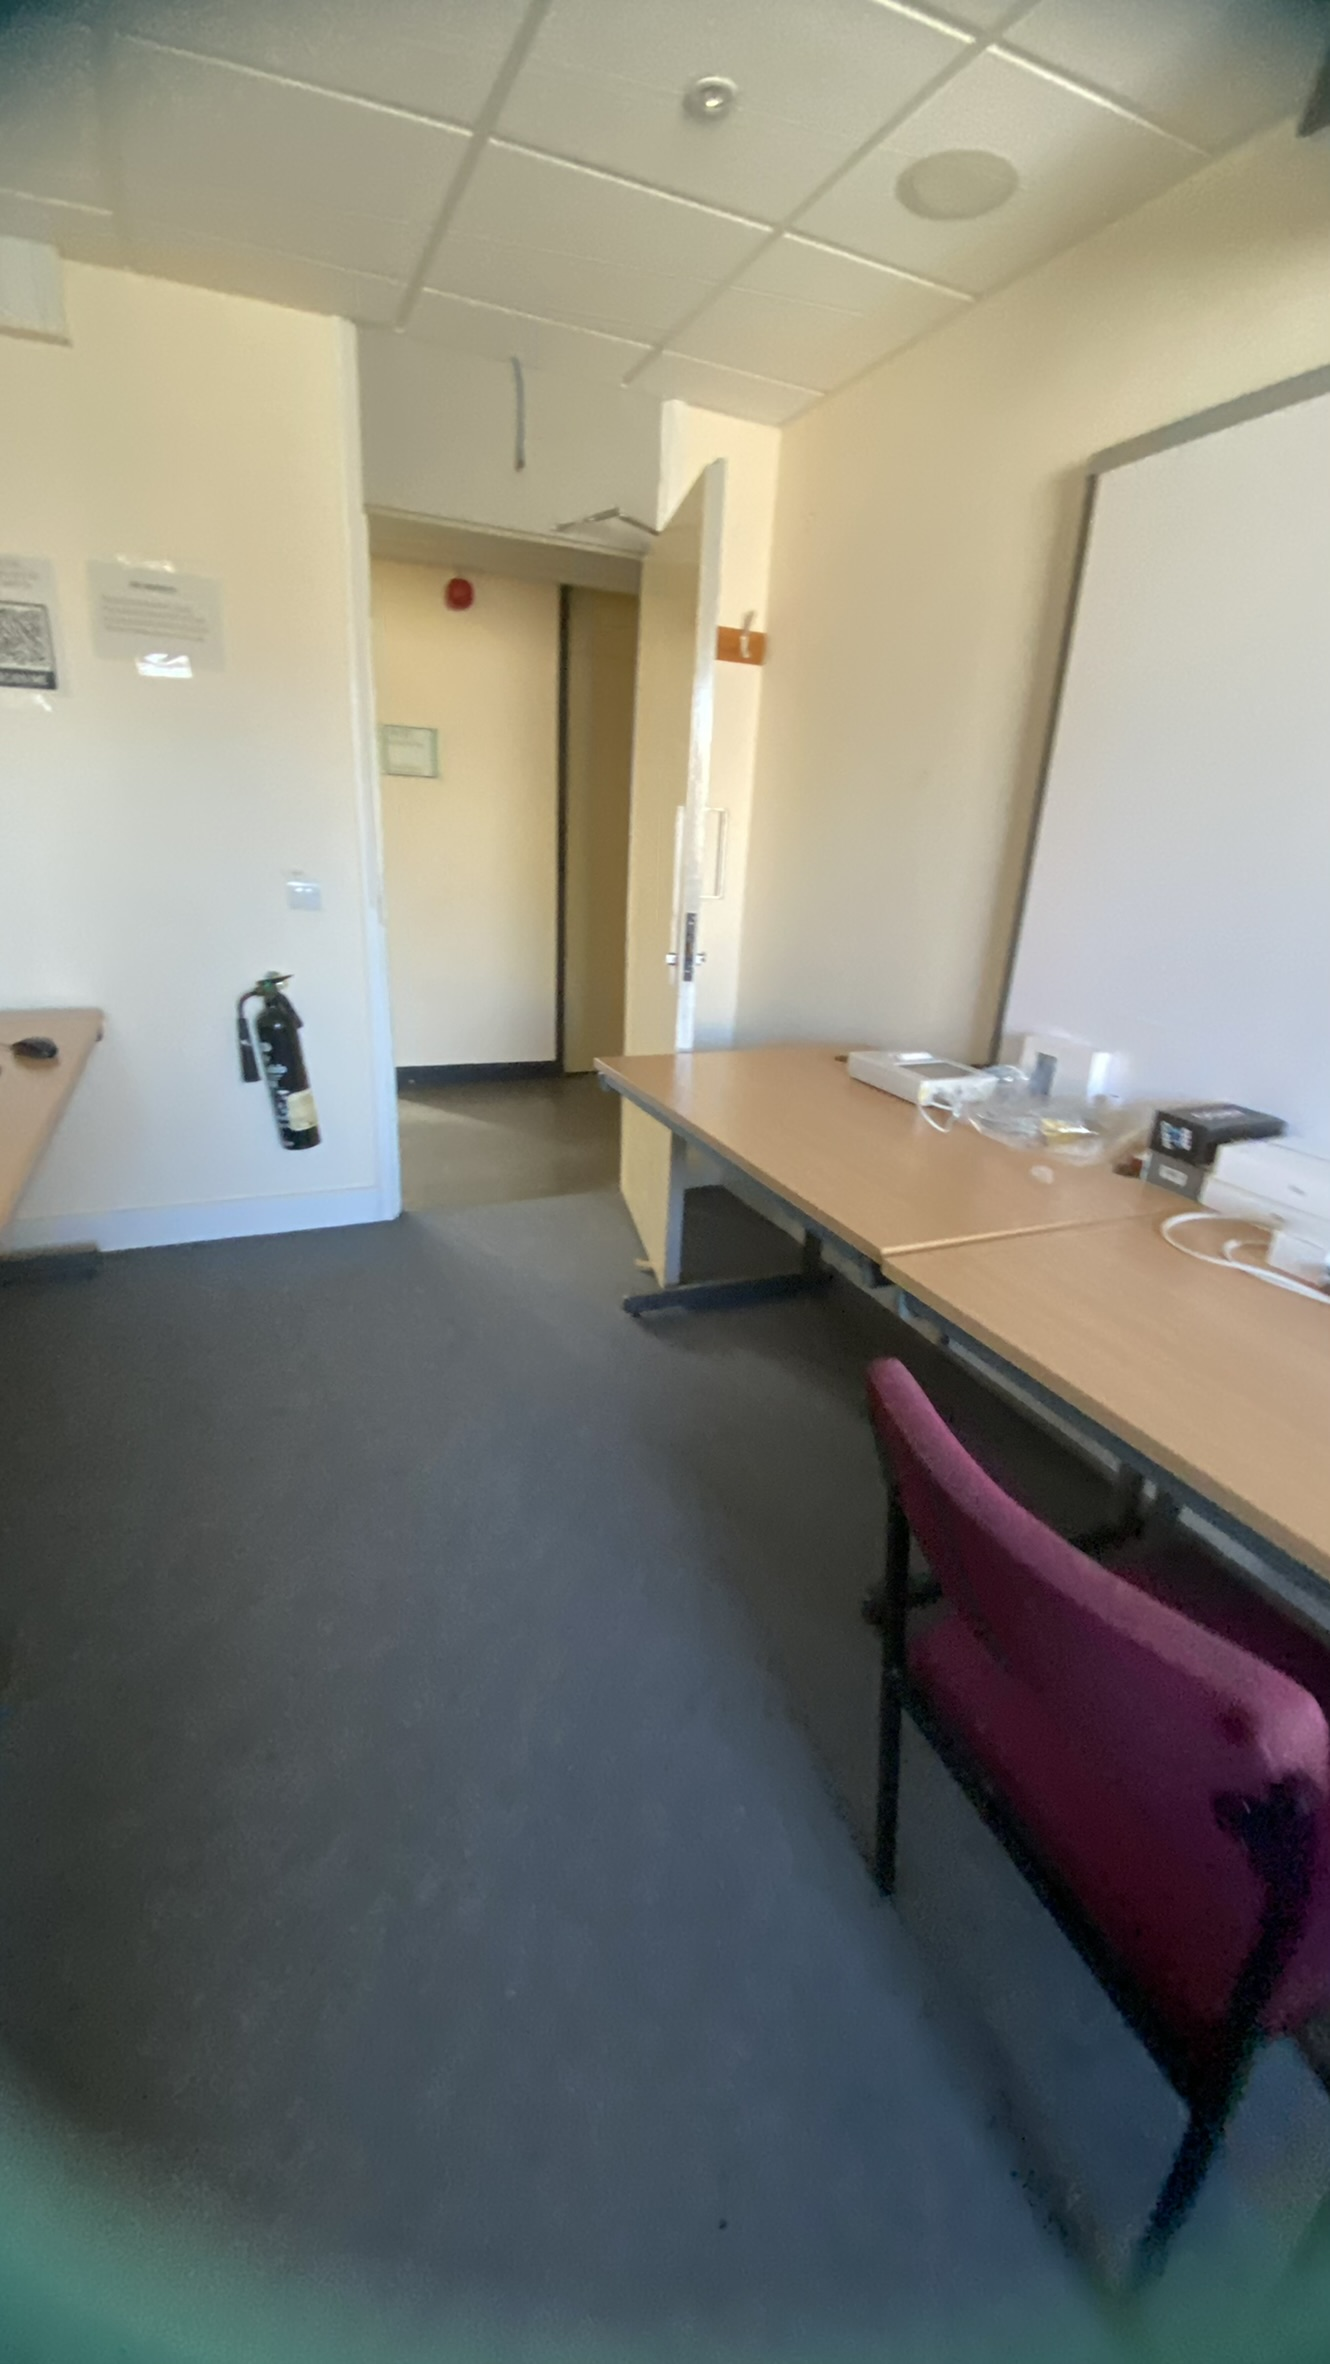chair: (789, 1333, 1330, 2333)
door: (593, 477, 723, 1309)
table: (551, 1057, 1330, 1952)
